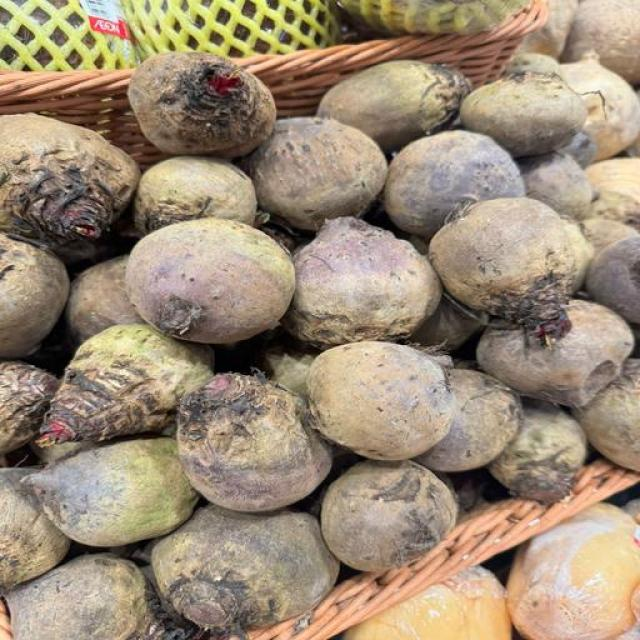organic: (2, 1, 639, 640), (39, 324, 212, 444), (28, 438, 197, 547), (89, 17, 129, 39)
